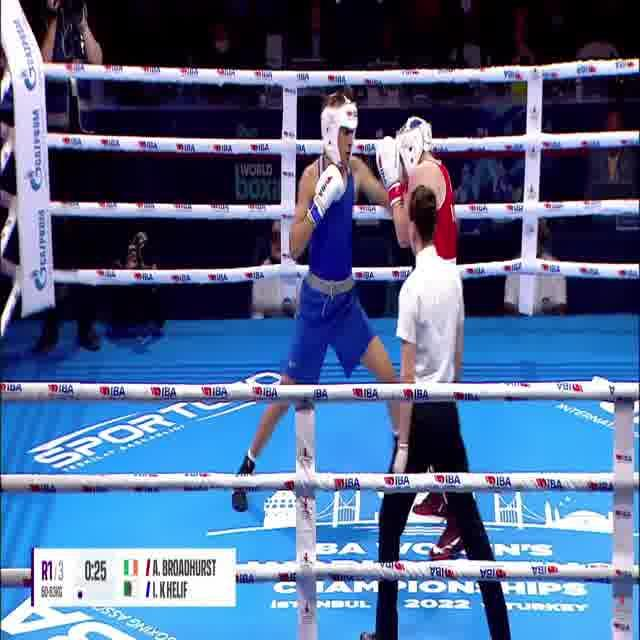blue-player: (230, 84, 424, 526)
red-player: (374, 118, 480, 570)
referee: (360, 183, 514, 640)
